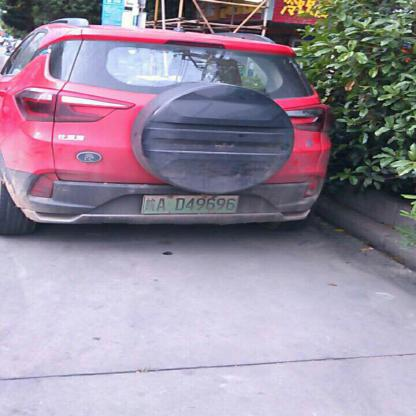lp: (142, 195, 239, 213)
